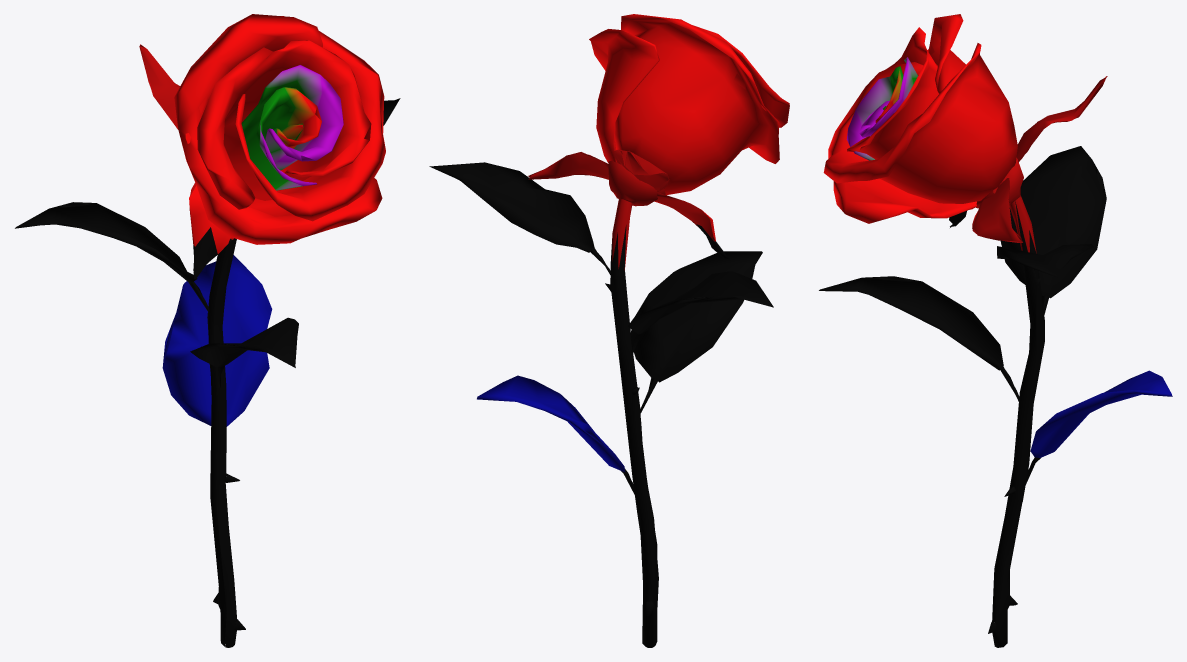
The model's file is flower_02_rose.glb.
3 renders of one model, left to right at view 1: azimuth 30°, elevation 25°; view 2: azimuth 150°, elevation 25°; view 3: azimuth 270°, elevation 25°, orthographic. The views are drawn at different scales.
Parts seen in each view (by area): view 1: Flower_Petals, Flower_Leaves, Flower_Stem; view 2: Flower_Petals, Flower_Leaves, Flower_Stem; view 3: Flower_Petals, Flower_Leaves, Flower_Stem.
Part boxes in pixels (x1,y1,x2,y2): Flower_Petals: (139, 14, 385, 253); Flower_Leaves: (15, 98, 400, 426); Flower_Stem: (189, 238, 245, 647); Flower_Petals: (528, 14, 789, 270); Flower_Leaves: (429, 162, 773, 472); Flower_Stem: (605, 225, 658, 647); Flower_Petals: (823, 14, 1107, 253); Flower_Leaves: (819, 146, 1172, 457); Flower_Stem: (988, 201, 1048, 647).
Bounding box in the file's own units: 0.7443 × 1.22 × 0.6259.
